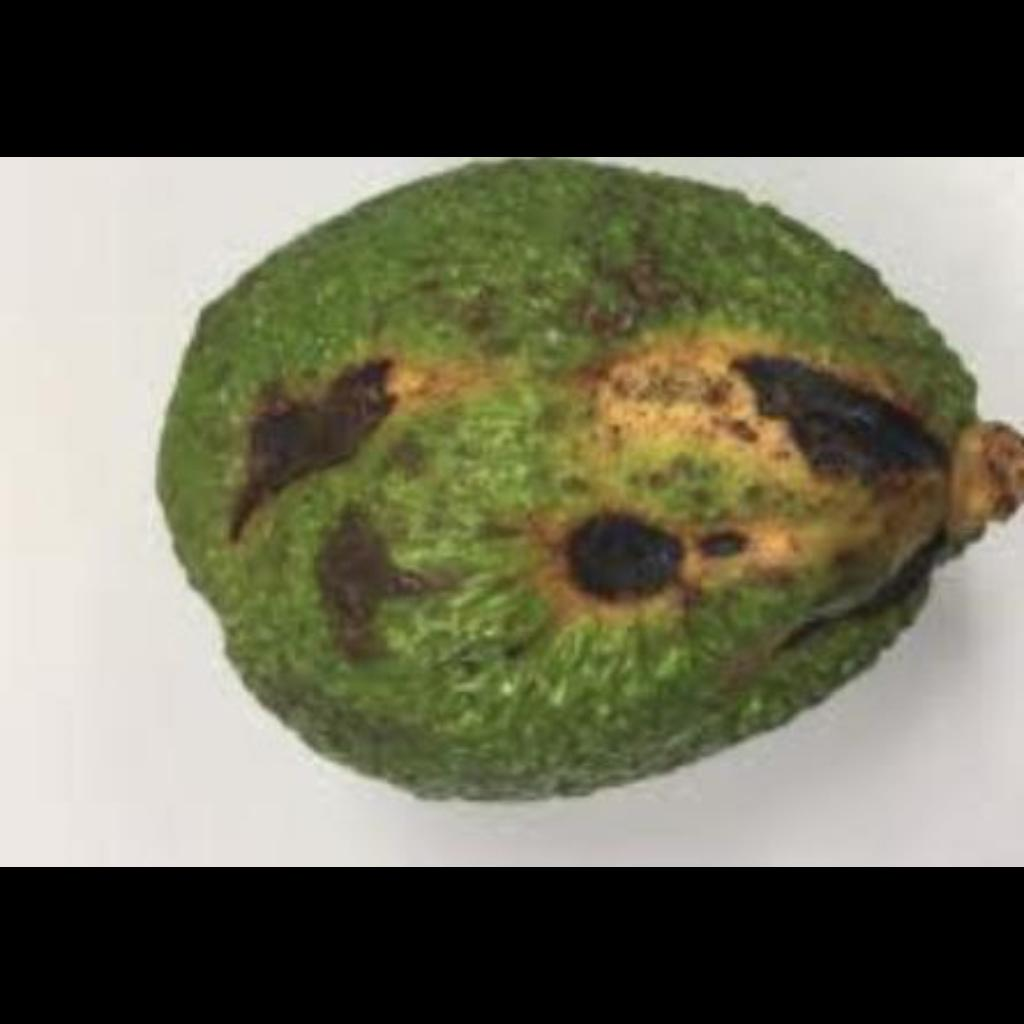antracnosis_fruto: (139, 157, 955, 803)
